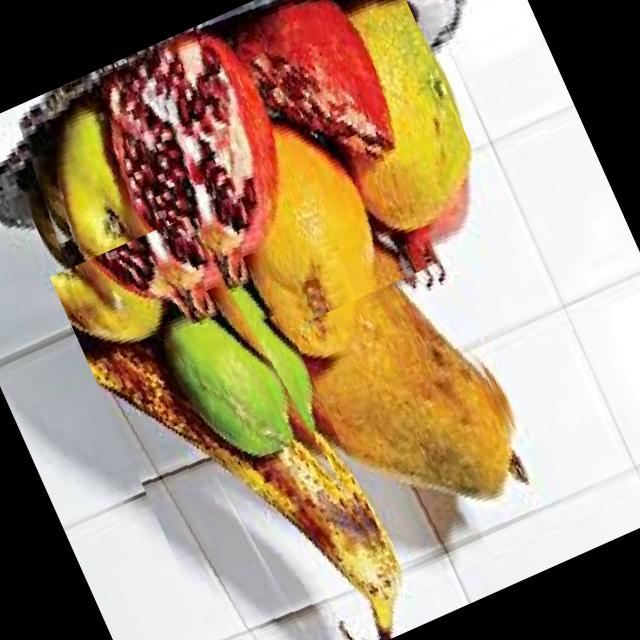Organic: (0, 0, 507, 404), (49, 195, 422, 640), (288, 260, 552, 574)
